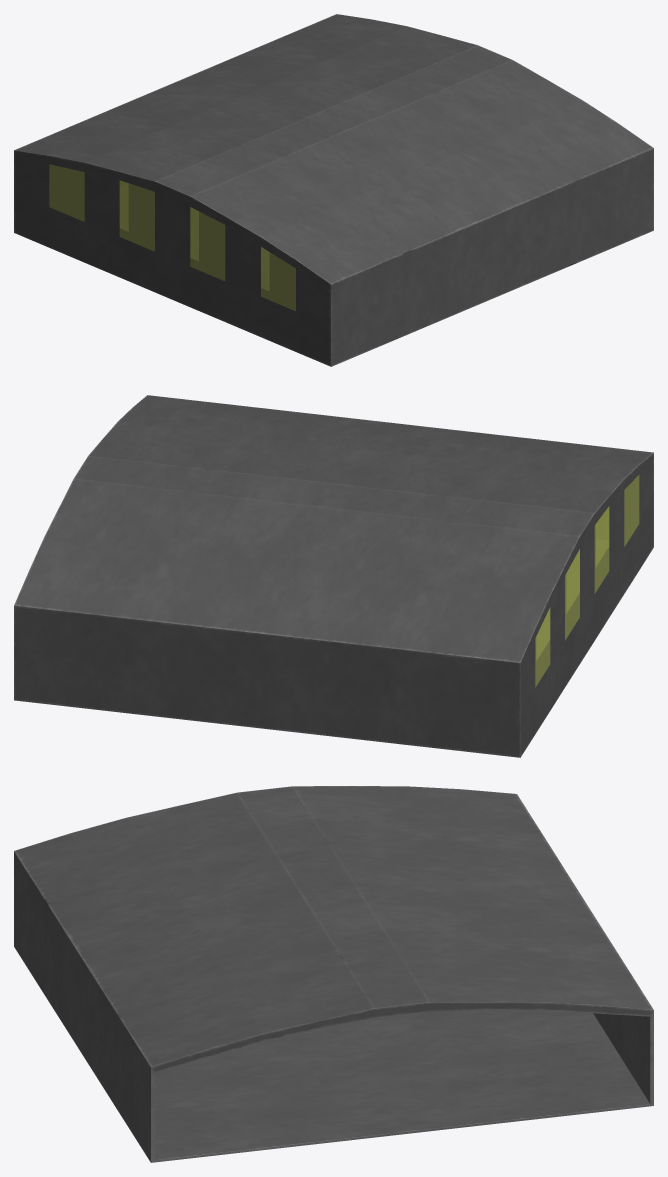
File: Hangar comun.fbx
3 views of the same model, one above another, from view 1: azimuth 30°, elevation 25°; view 2: azimuth 150°, elevation 25°; view 3: azimuth 270°, elevation 25° (orthographic). The views are drawn at different scales.
Visible parts, largest first — view 1: Hangar1; view 2: Hangar1; view 3: Hangar1.
Part boxes in pixels (x1,y1,x2,y2): Hangar1: (14, 14, 653, 366); Hangar1: (14, 395, 653, 757); Hangar1: (14, 786, 653, 1162).
Bounding box in the file's own units: 10867 × 2390 × 10759.
